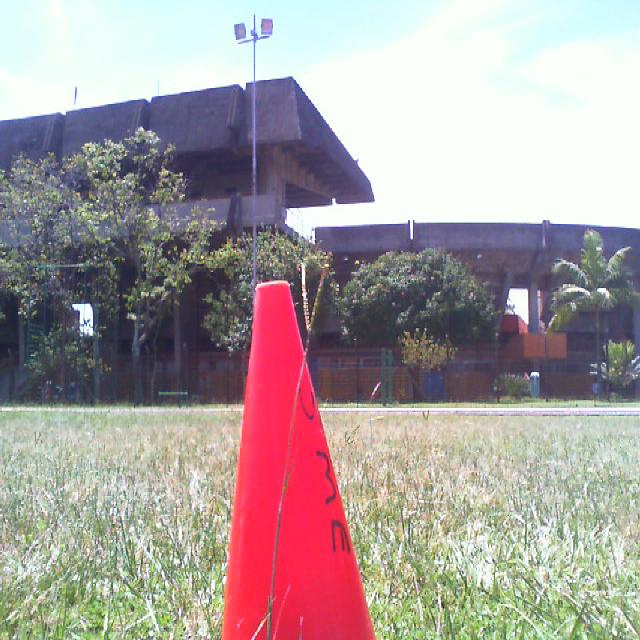cone: (222, 281, 376, 640)
